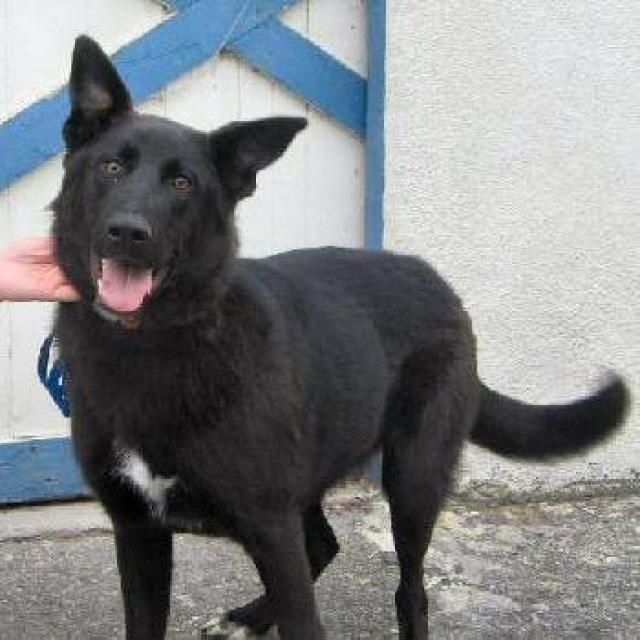dog: (46, 33, 629, 638)
